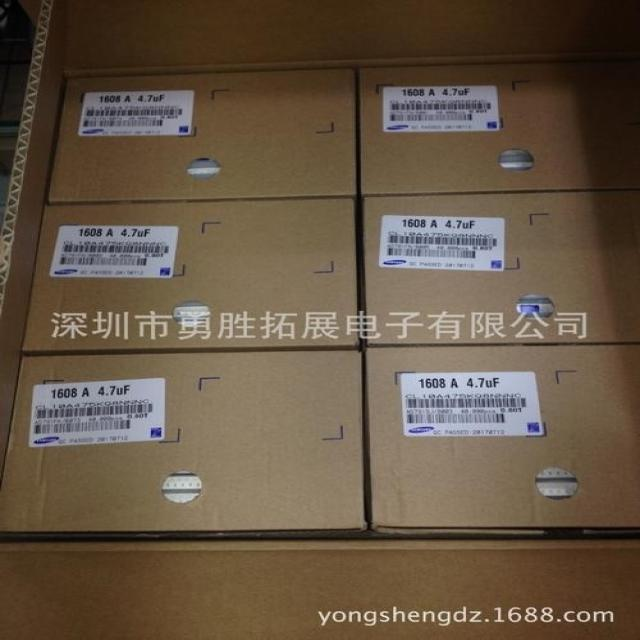Carton: (1, 350, 357, 532), (23, 197, 356, 347), (364, 345, 639, 525), (360, 190, 636, 343), (42, 70, 356, 200), (360, 57, 635, 190)
